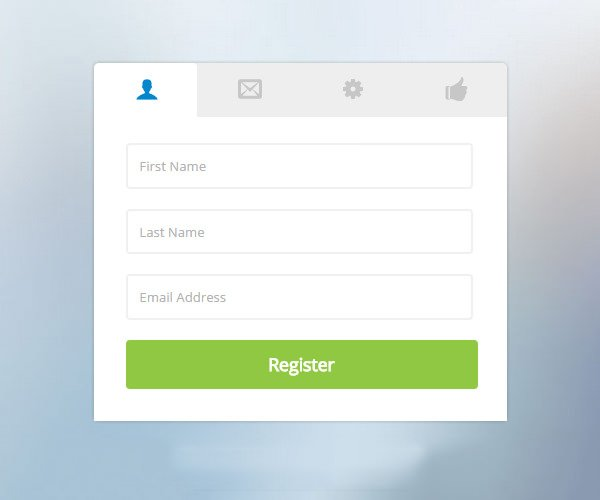_form_: (91, 16, 507, 432)
button: (123, 338, 479, 390)
field: (123, 272, 474, 322), (124, 141, 474, 191), (125, 207, 474, 256)
